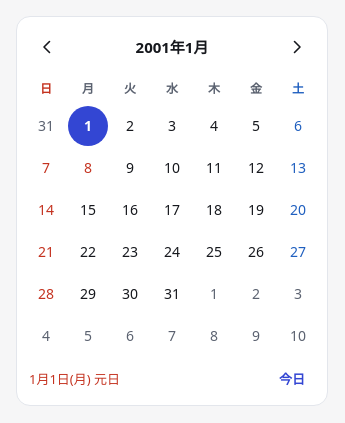
Test: 月と年の移動 / I-18 › 「今日」で今日へ移る
Click the button "今日": [292, 379] box 269,363 -> 315,395
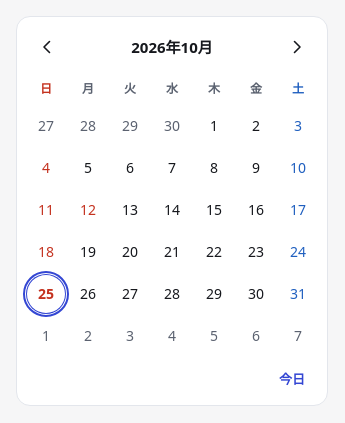
Result: the button "25" is shown at 26,274 -> 66,314
